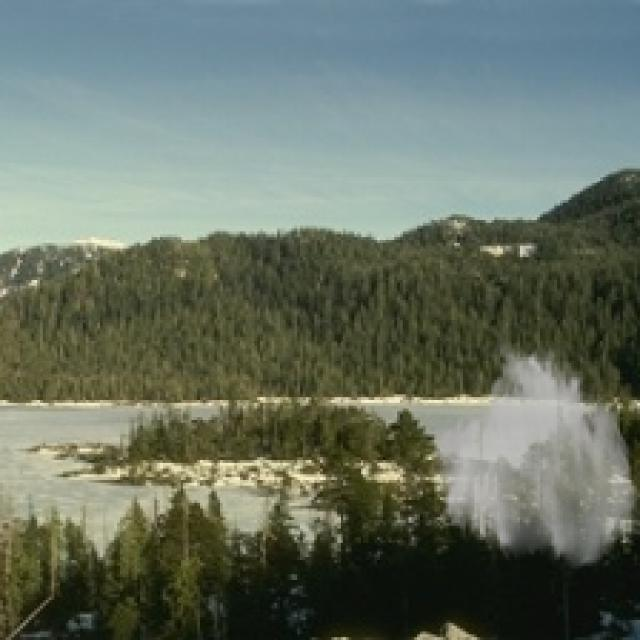Smoke: (428, 337, 638, 574)
